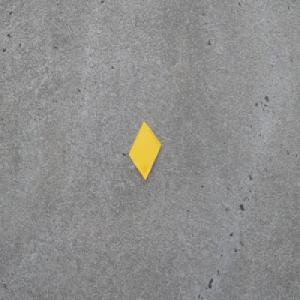PlasticPart: (128, 120, 161, 181)
